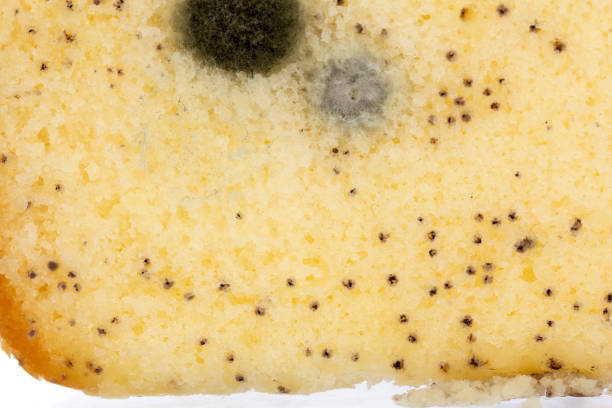mold_bread: (163, 1, 312, 79), (306, 51, 393, 137)
